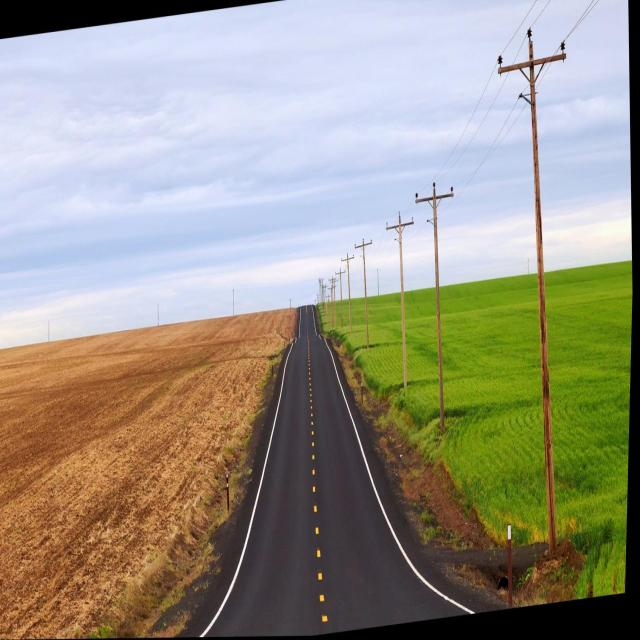pole: (530, 262, 571, 575)
